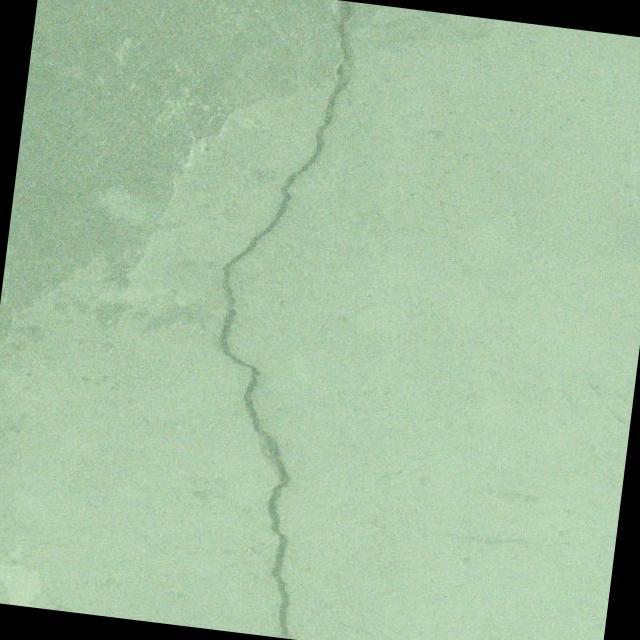crack: (116, 0, 391, 640), (410, 186, 530, 300), (303, 150, 374, 244)
